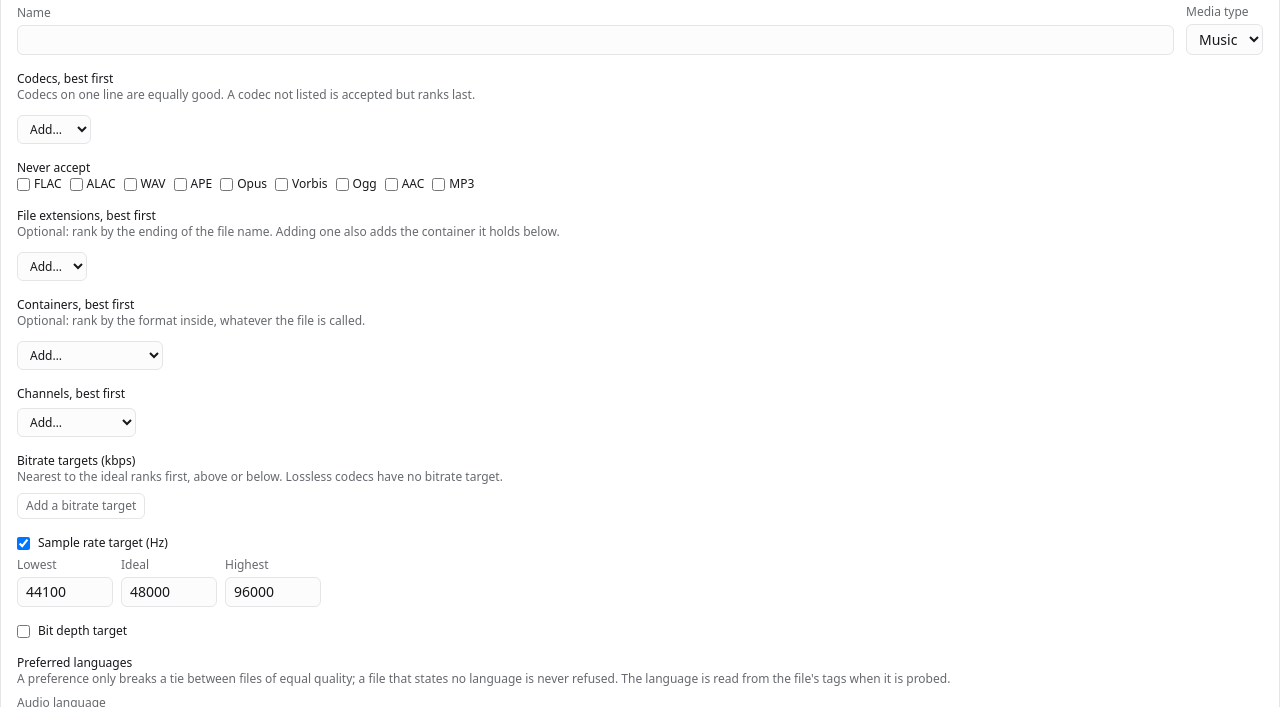
Scenario: Check lists the mistakes the server names and saves nothing
Type "Typo" into the field labelled "Name" at coordinates (596, 40), box x1=17 y1=25 x2=1174 y2=55
(page scrolled)
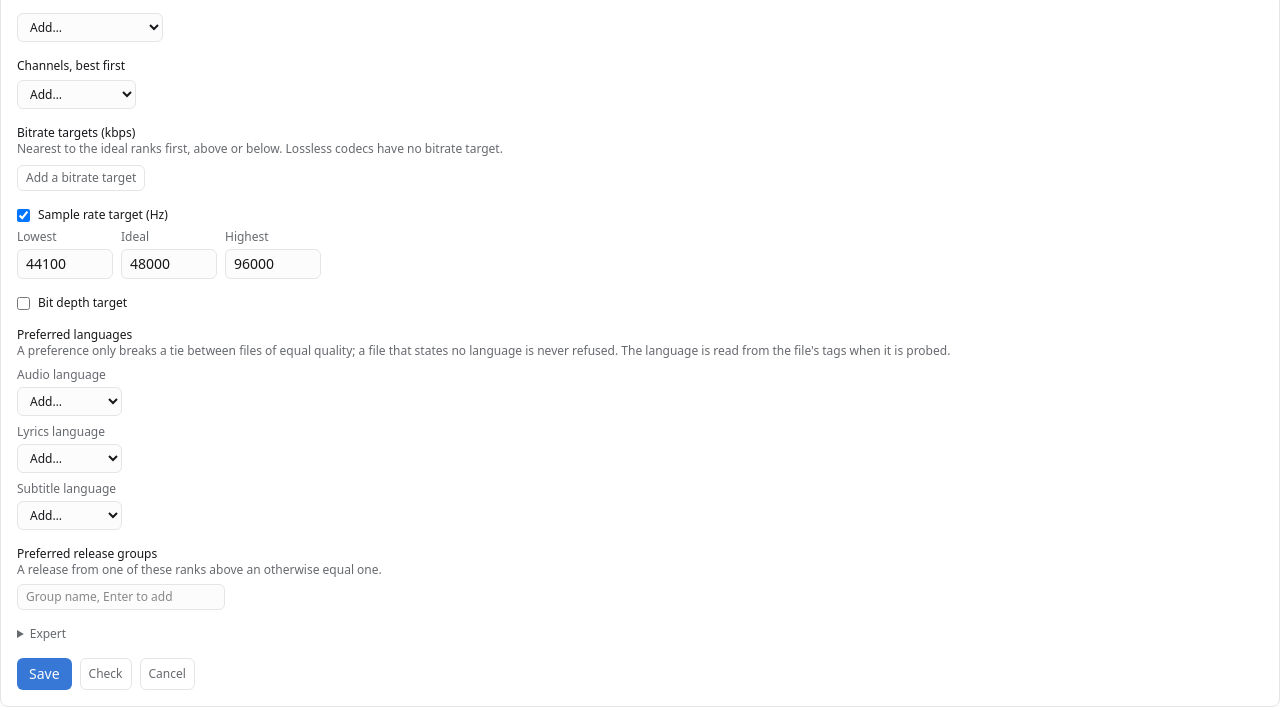
Click the button "Check" at coordinates (106, 674), box x1=80 y1=658 x2=132 y2=690
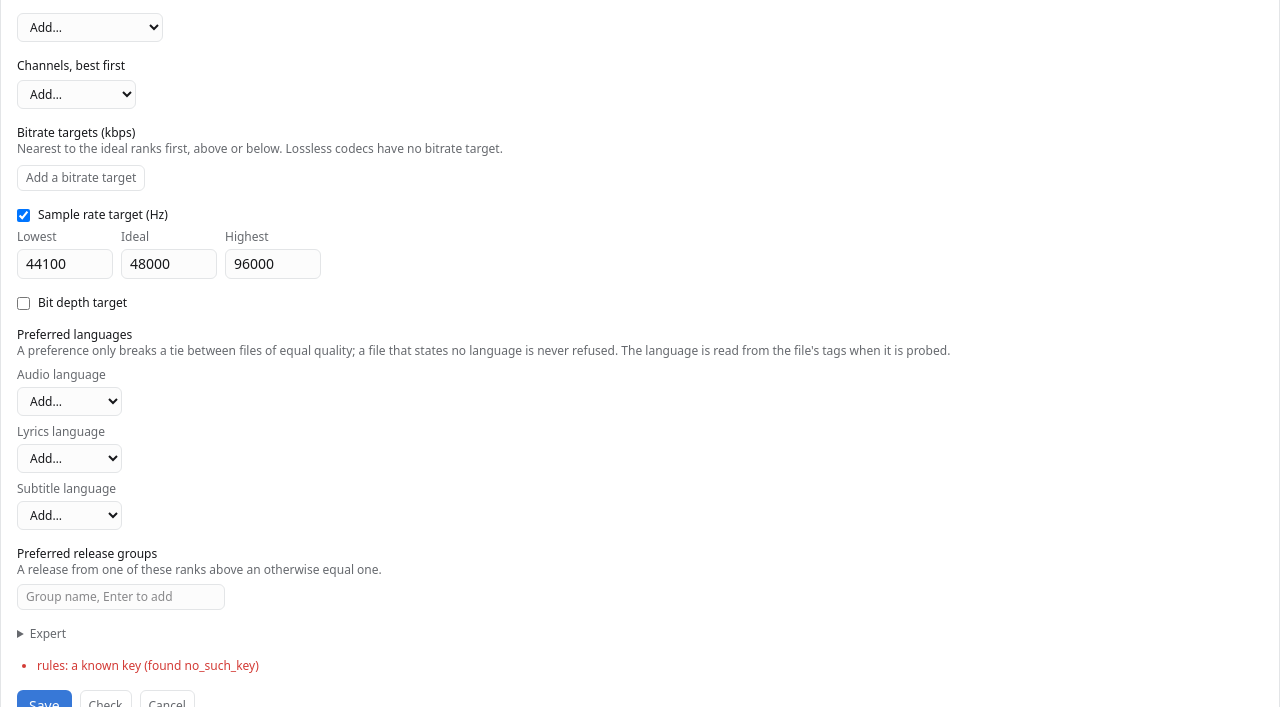
expect the list item "rules: a known key (found no_such_key)" is shown: met, box x1=37 y1=657 x2=259 y2=674
